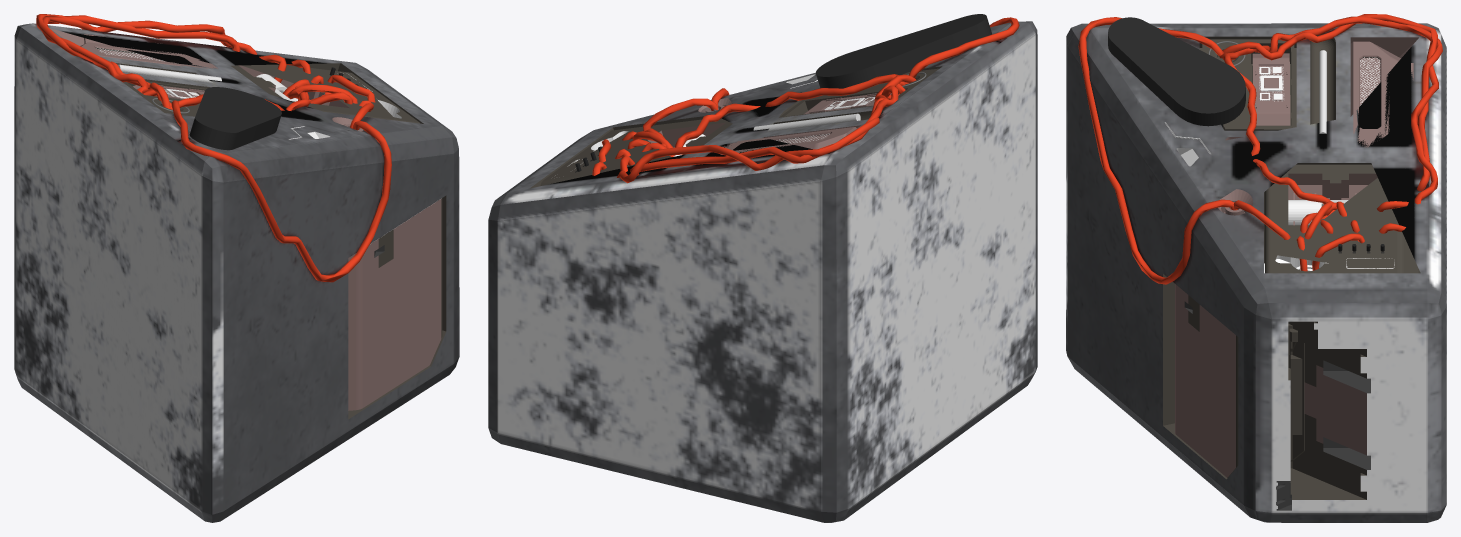
File: Console-MediumLeft.fbx
The picture shows the model from 3 angles, left to right: view 1: azimuth 30°, elevation 25°; view 2: azimuth 150°, elevation 25°; view 3: azimuth 270°, elevation 25°; orthographic projection. The views are drawn at different scales.
Visible parts, largest first — view 1: Console-MediumLeft, Cable.008, Ani_Piston1_1_Circle.001; view 2: Console-MediumLeft, Cable.008, Ani_Piston1_1_Circle.001; view 3: Console-MediumLeft, Cable.008, Ani_Piston1_1_Circle.001, Console-MediumLeft.002, Console-MediumLeft.001.
Boxes of the visible parts, box(x1,y1,x2,y2) form: Console-MediumLeft: box(14, 23, 459, 522); Cable.008: box(36, 14, 391, 282); Ani_Piston1_1_Circle.001: box(189, 87, 281, 150); Console-MediumLeft: box(488, 21, 1037, 522); Cable.008: box(592, 17, 1019, 183); Ani_Piston1_1_Circle.001: box(816, 14, 991, 88); Console-MediumLeft: box(1066, 23, 1446, 522); Cable.008: box(1078, 14, 1442, 284); Ani_Piston1_1_Circle.001: box(1108, 17, 1245, 127); Console-MediumLeft.002: box(1259, 66, 1284, 101); Console-MediumLeft.001: box(1360, 57, 1380, 105).
Size of the model in its own units: 200 by 205 by 196.
